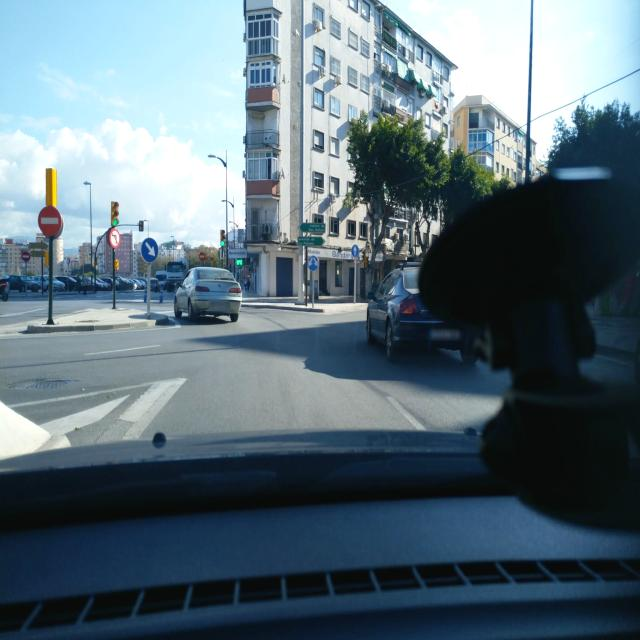car: (364, 261, 479, 366), (173, 266, 242, 323), (5, 274, 28, 293), (58, 276, 80, 290), (0, 273, 10, 302), (115, 276, 133, 291), (131, 277, 147, 290), (148, 278, 160, 292)
